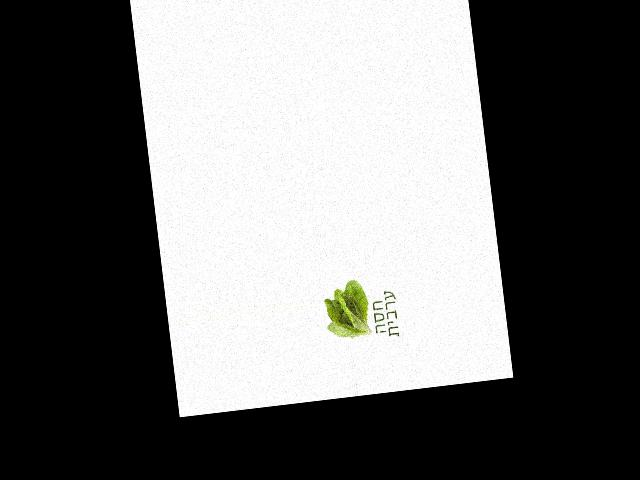lettuce: (322, 277, 377, 344)
